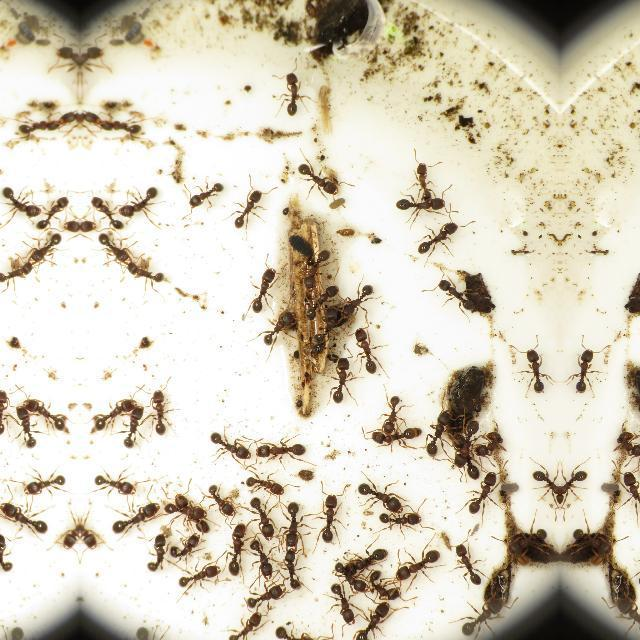Tetramorium: (459, 580, 516, 640), (412, 412, 456, 468), (272, 61, 314, 118), (382, 185, 448, 219), (602, 580, 640, 638), (91, 388, 135, 438), (25, 388, 69, 438), (311, 487, 351, 539), (412, 218, 463, 258), (220, 517, 252, 579), (445, 530, 481, 584), (362, 418, 418, 452), (242, 262, 280, 312), (394, 546, 444, 584), (0, 500, 52, 536), (231, 582, 289, 614), (252, 308, 294, 352), (158, 526, 202, 568), (304, 275, 338, 329), (108, 502, 162, 536), (228, 179, 266, 227), (290, 162, 340, 198), (449, 437, 486, 485), (356, 474, 408, 508), (256, 438, 318, 466), (518, 340, 550, 394), (504, 526, 558, 558), (570, 340, 602, 394), (562, 526, 616, 558), (326, 550, 369, 590), (352, 319, 386, 369), (464, 470, 506, 510), (355, 596, 395, 638), (340, 282, 384, 320), (80, 26, 106, 90), (54, 26, 80, 90), (296, 246, 332, 292), (120, 182, 160, 222), (0, 182, 40, 222), (172, 558, 214, 596), (222, 603, 266, 639), (155, 490, 211, 518), (430, 276, 472, 312), (186, 178, 232, 210), (238, 470, 290, 498), (206, 428, 254, 458), (344, 538, 386, 572), (533, 464, 559, 518), (561, 464, 587, 518), (13, 405, 42, 453), (324, 580, 354, 626), (465, 428, 509, 459), (91, 467, 135, 498), (25, 467, 69, 498), (118, 405, 146, 453), (380, 511, 422, 542), (142, 525, 168, 575), (80, 505, 106, 555), (54, 505, 80, 555), (370, 561, 402, 601), (96, 234, 134, 266), (26, 234, 64, 266), (147, 380, 167, 440), (378, 392, 407, 432), (282, 546, 306, 594), (172, 492, 204, 528), (411, 150, 433, 200), (88, 190, 122, 222), (38, 190, 72, 222), (208, 484, 238, 520), (250, 496, 278, 534), (287, 495, 309, 543), (250, 532, 272, 580), (104, 114, 144, 140), (614, 470, 640, 510), (16, 114, 56, 140), (123, 262, 169, 284), (458, 416, 480, 460), (610, 428, 640, 458), (0, 525, 18, 575), (330, 358, 350, 402), (0, 261, 36, 282), (0, 380, 12, 440)
